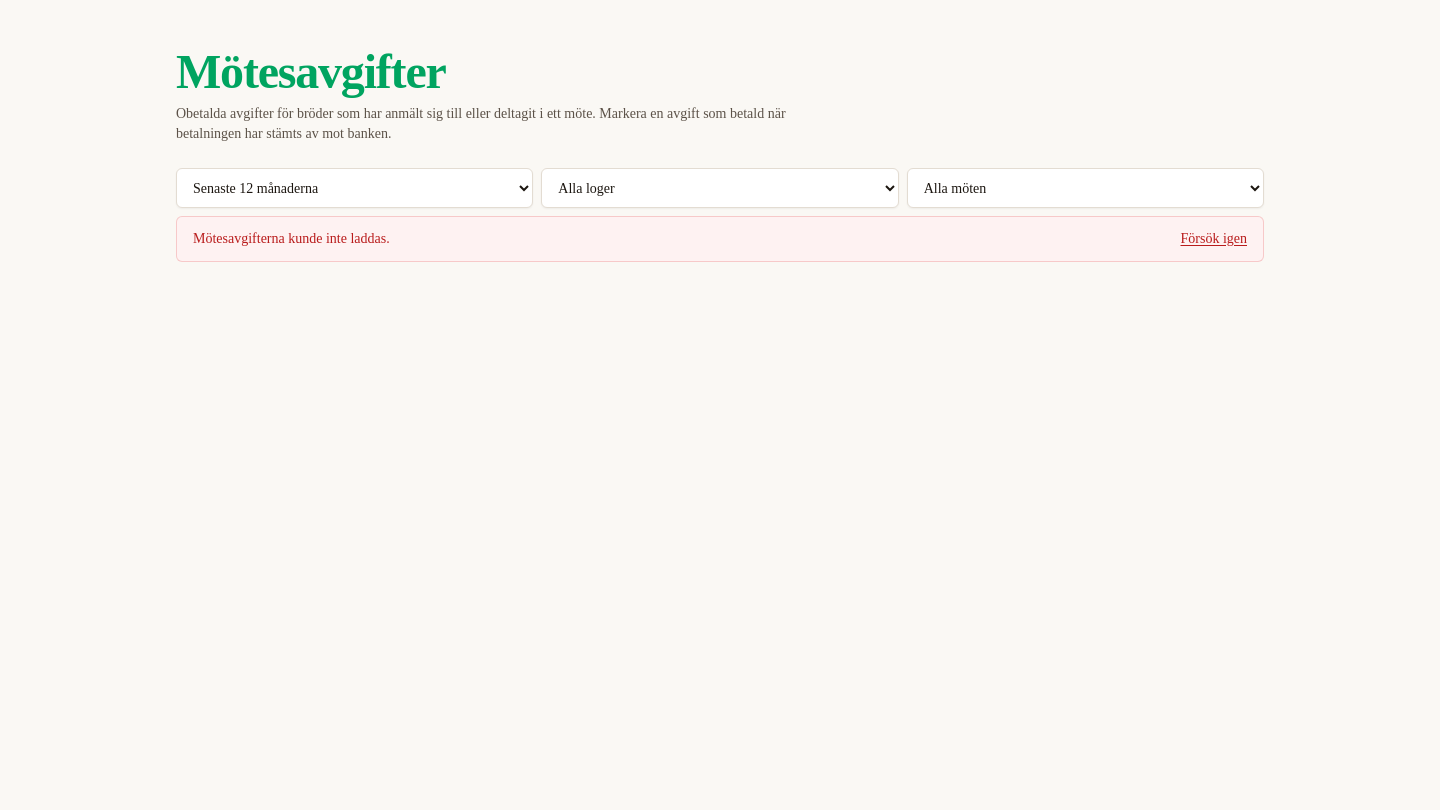
Test: EventPaymentsPage › shows an error with retry
Expected: the text "Mötesavgifterna kunde inte laddas." is shown, [193, 229, 390, 249]
Click the button "Försök igen": x=1214, y=239 [1180, 229, 1247, 249]
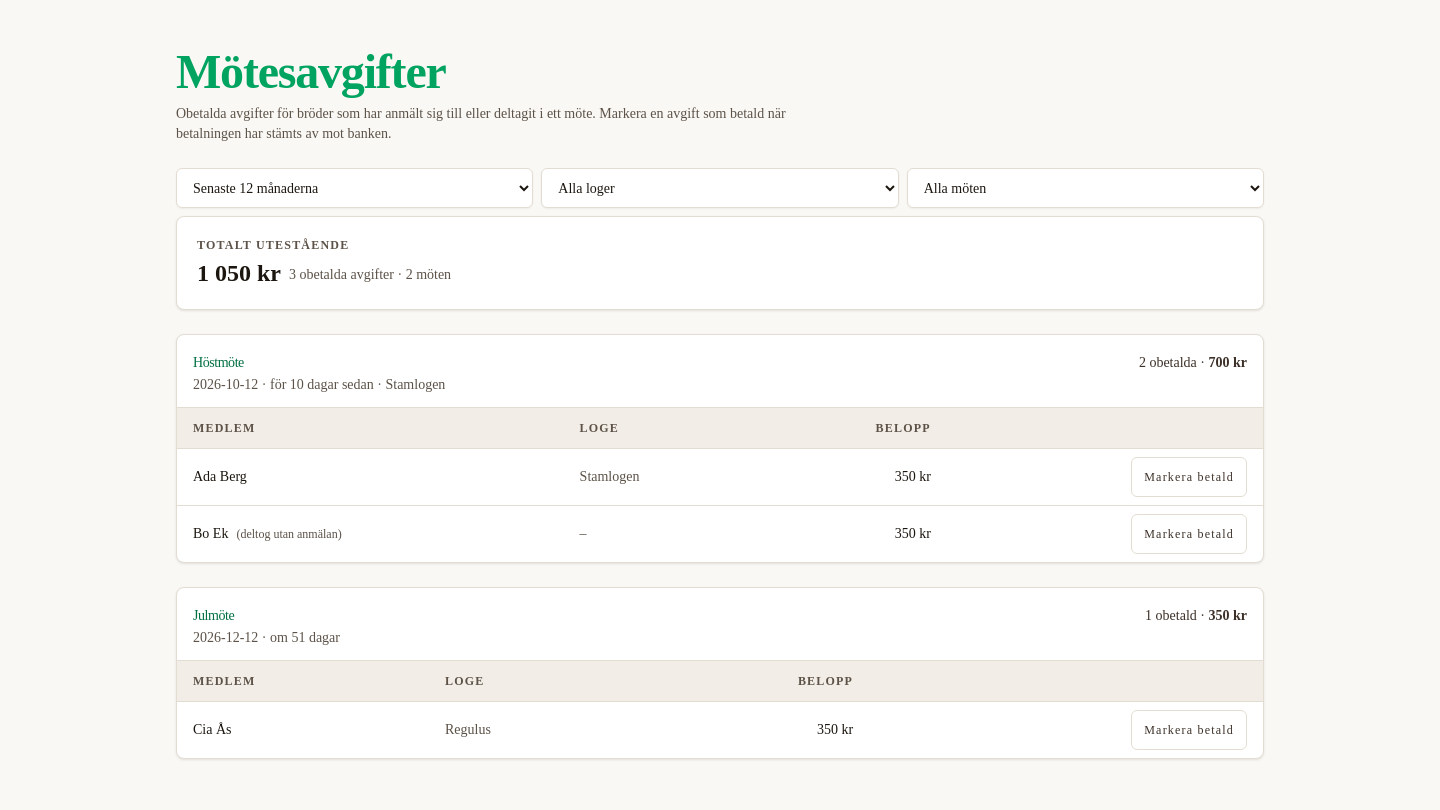
Expected: the element "Höstmöte" is shown, [176, 334, 1264, 563]
